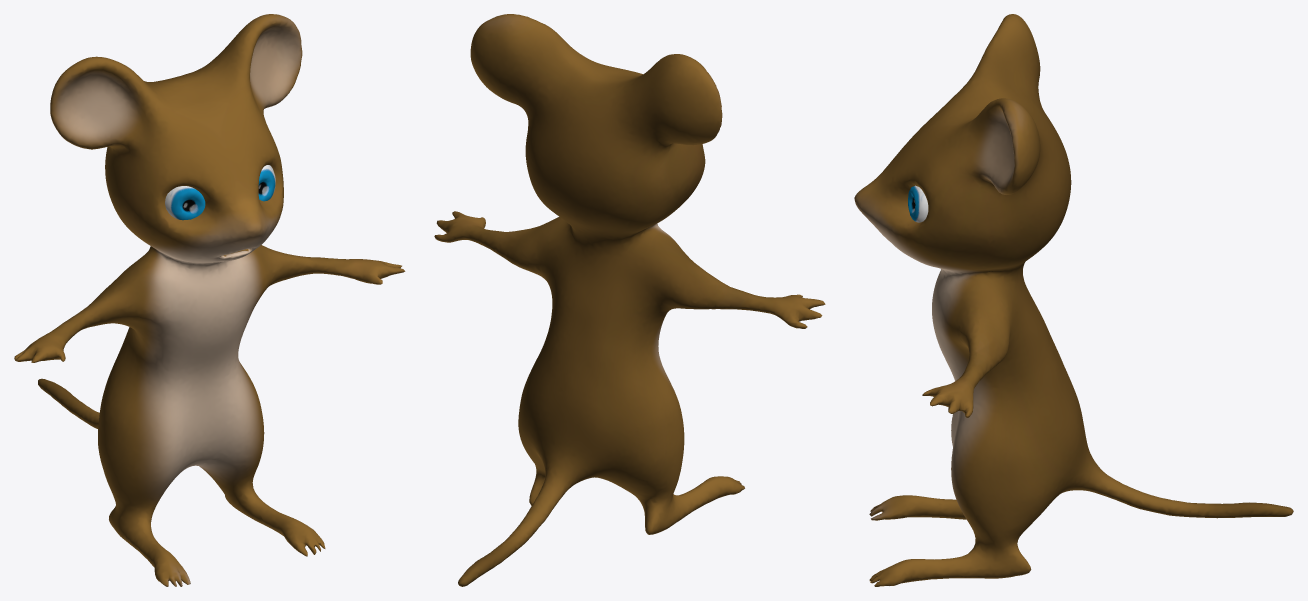
The model's file is mouse_by_dommk.obj.
3 renders of one model, left to right at view 1: azimuth 30°, elevation 25°; view 2: azimuth 150°, elevation 25°; view 3: azimuth 270°, elevation 25°, orthographic.
Visible parts, largest first — view 1: mouse_by_dommk, Group58359; view 2: mouse_by_dommk; view 3: mouse_by_dommk, Group58359.
Boxes of the visible parts, x1,y1,x2,y2 form: mouse_by_dommk: [14, 14, 405, 586]; Group58359: [165, 165, 275, 220]; mouse_by_dommk: [434, 14, 825, 586]; mouse_by_dommk: [854, 14, 1293, 586]; Group58359: [908, 185, 928, 222].
Size of the model in its own units: 2.38 by 2.85 by 2.31.
